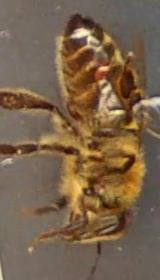varroa_mite: (85, 56, 122, 86)
